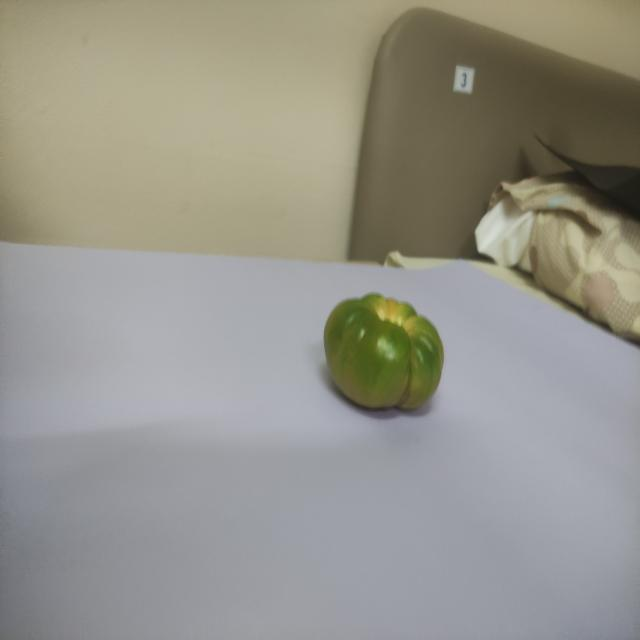yesil: (321, 260, 454, 426)
